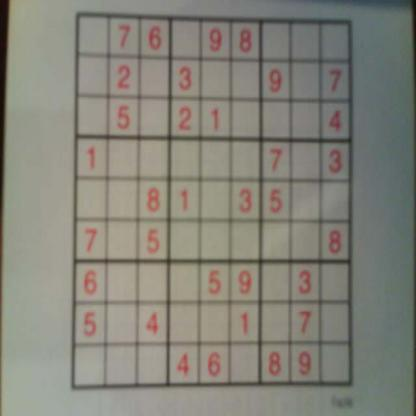sudoku: (66, 7, 362, 394)
